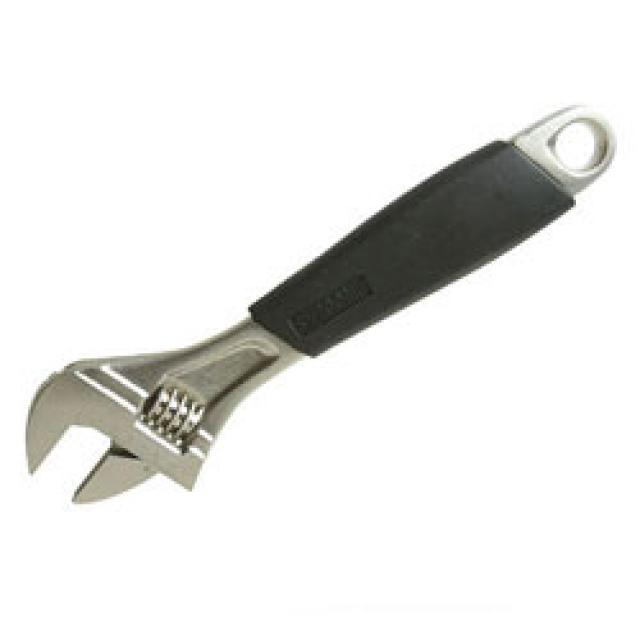wrench: (5, 108, 640, 526)
